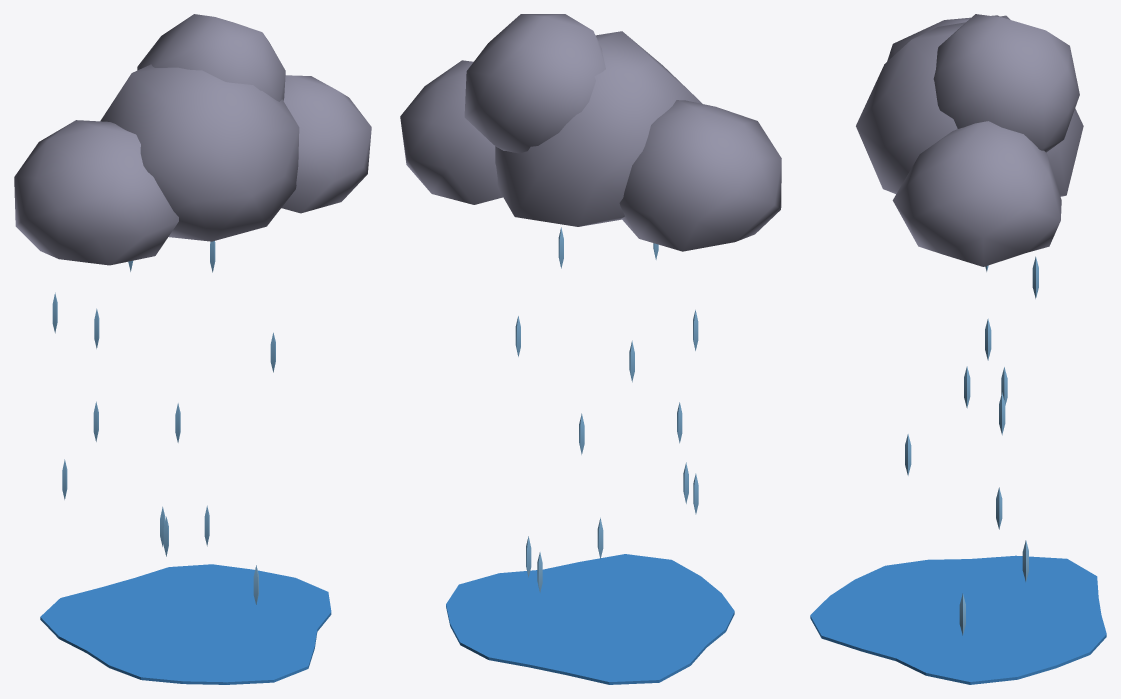
File: rain-cloud-pixor.glb
3 renders of one model, left to right at view 1: azimuth 30°, elevation 25°; view 2: azimuth 150°, elevation 25°; view 3: azimuth 270°, elevation 25°, orthographic. The views are drawn at different scales.
Parts seen in each view (by area): view 1: Rain cloud, Rain puddle, Rain streaks; view 2: Rain cloud, Rain puddle, Rain streaks; view 3: Rain cloud, Rain puddle, Rain streaks.
Boxes of the visible parts, left/top/right/bottom form: Rain cloud: left=14, top=14, right=371, bottom=265; Rain puddle: left=40, top=564, right=331, bottom=684; Rain streaks: left=52, top=241, right=275, bottom=604; Rain cloud: left=400, top=14, right=781, bottom=251; Rain puddle: left=446, top=554, right=734, bottom=684; Rain streaks: left=515, top=227, right=698, bottom=592; Rain cloud: left=856, top=14, right=1083, bottom=266; Rain puddle: left=810, top=555, right=1106, bottom=684; Rain streaks: left=905, top=256, right=1038, bottom=635.
Bounding box in the file's own units: 1.59 × 2.57 × 1.12.
